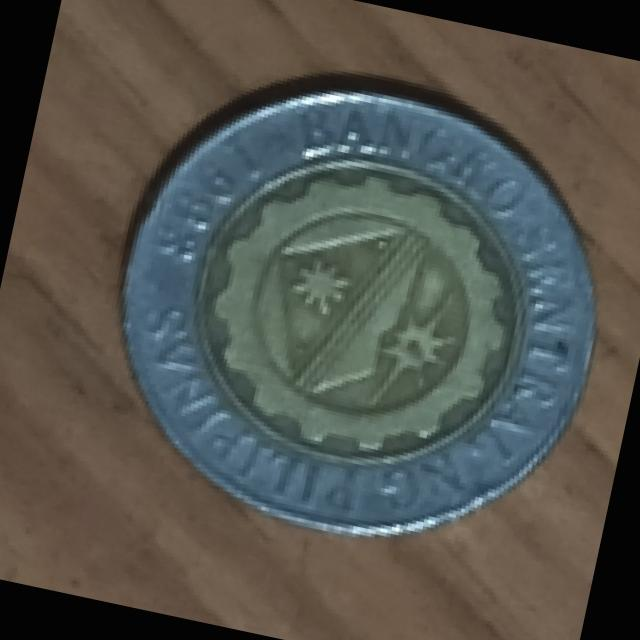10_peso: (122, 91, 591, 531)
